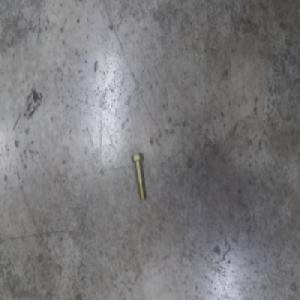Bolt: (131, 150, 146, 200)
